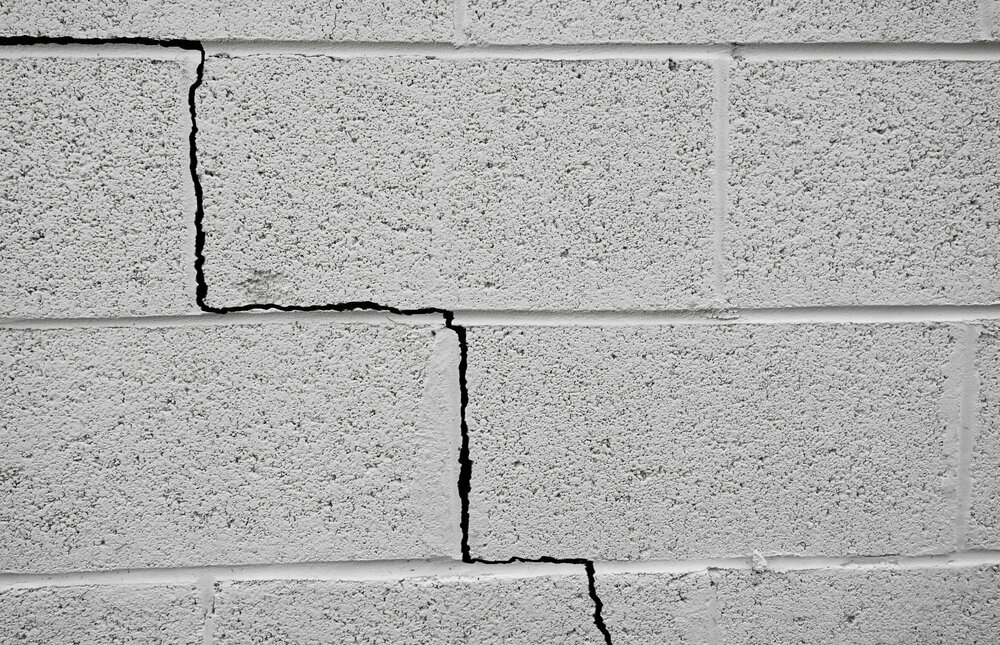stairstep_crack: (0, 29, 616, 644)
